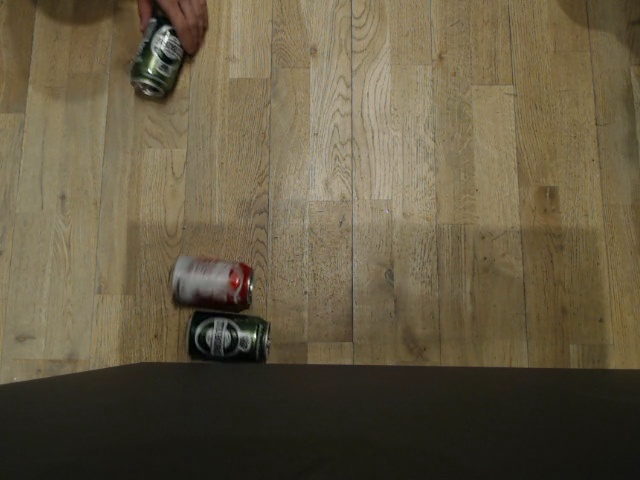beer: (187, 306, 286, 368), (125, 14, 191, 102)
cola: (165, 249, 259, 315)
